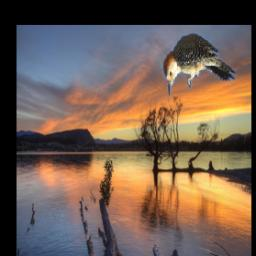Woodpecker: (156, 33, 239, 100)
